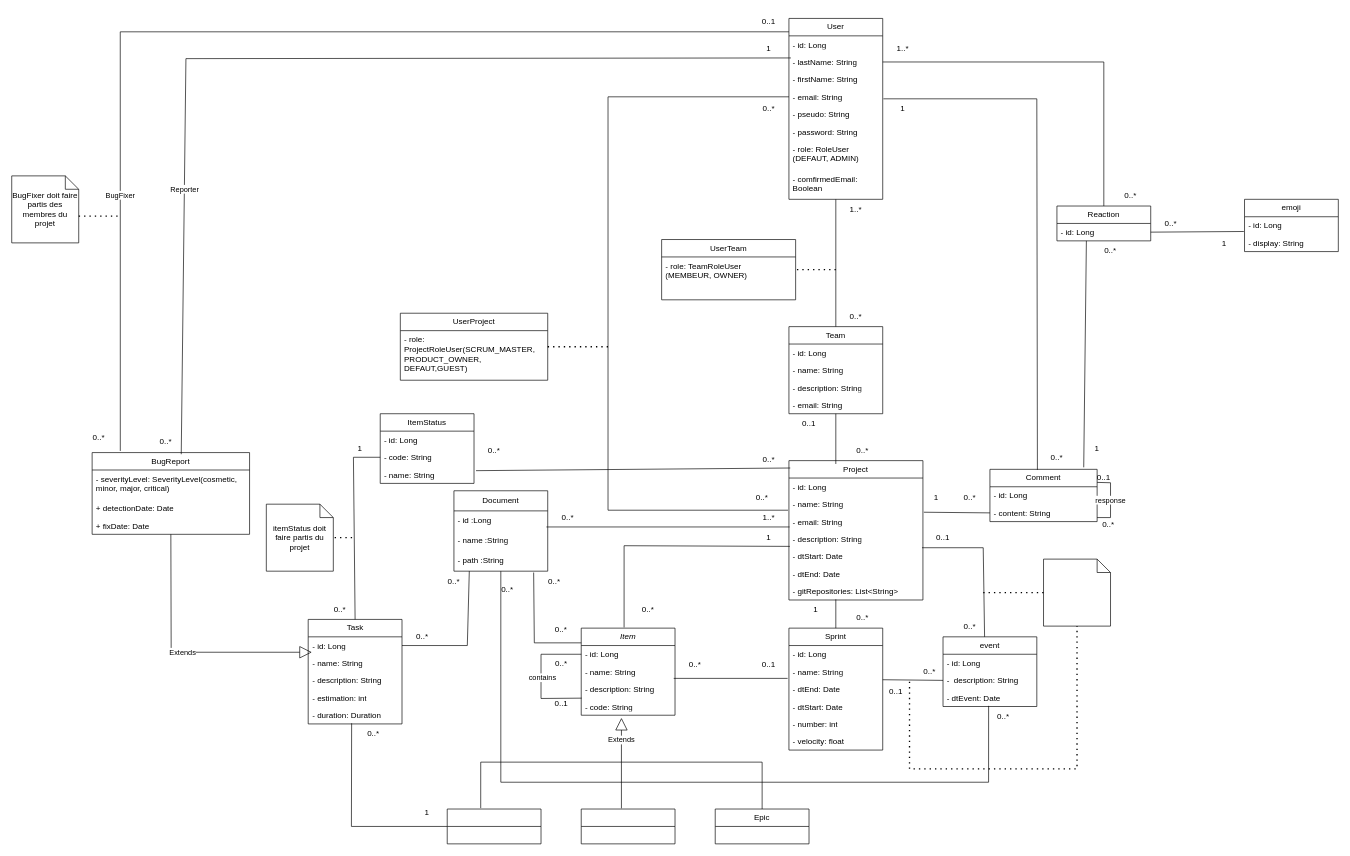
The diagram is 1350 pixels wide and 856 high, and some of its shapes have lost their labels. The centre of each missing label's shape, as x and y in pixels:
Feature: the point at 628,826
un event peut être ou dans un projet ou dans un sprint: the point at 1077,592
UserStory: the point at 494,826
